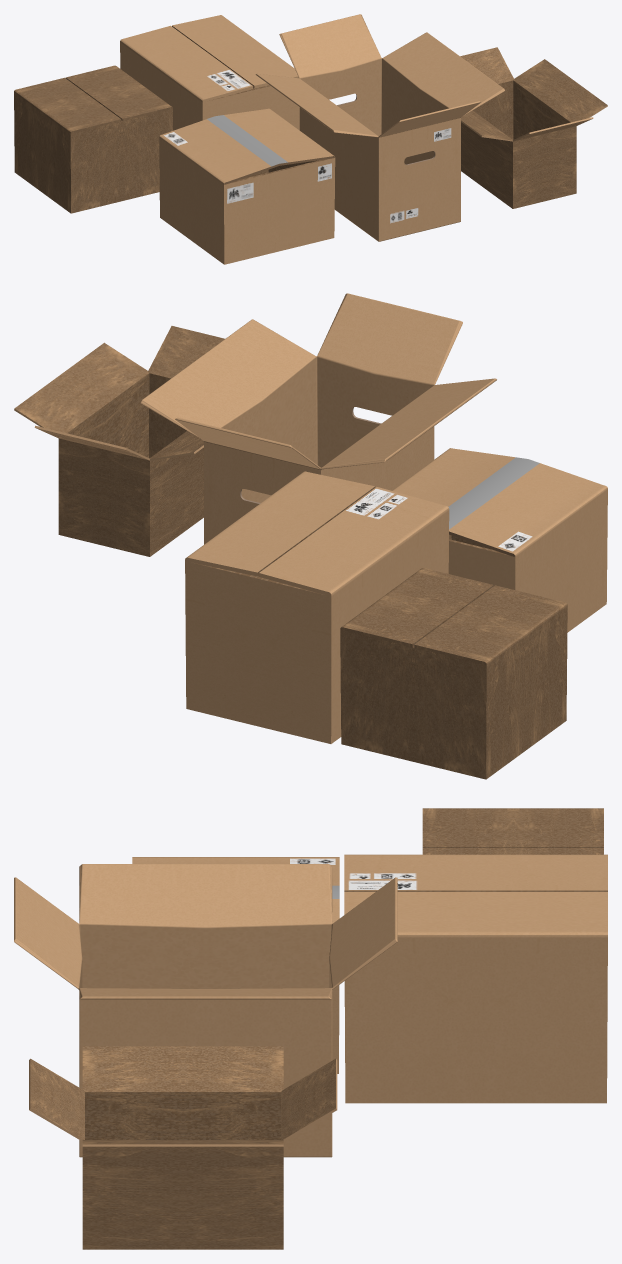
File: boxes.fbx
3 renders of one model, top to bottom at view 1: azimuth 30°, elevation 25°; view 2: azimuth 150°, elevation 25°; view 3: azimuth 270°, elevation 25°, orthographic. The views are drawn at different scales.
Parts seen in each view (by area): view 1: Cube, Cube.004, Cube.003, Cube.001, Cube.002; view 2: Cube.002, Cube, Cube.003, Cube.001, Cube.004; view 3: Cube.002, Cube, Cube.001, Cube.003, Cube.004.
Part boxes in pixels (x1,y1,x2,y2): Cube: (255, 14, 504, 241); Cube.004: (159, 108, 335, 264); Cube.003: (14, 65, 172, 213); Cube.001: (460, 47, 607, 208); Cube.002: (120, 15, 299, 130); Cube.002: (185, 471, 449, 743); Cube: (140, 293, 496, 544); Cube.003: (340, 568, 567, 779); Cube.001: (14, 326, 224, 556); Cube.004: (392, 448, 607, 632); Cube.002: (344, 854, 607, 1103); Cube: (14, 864, 397, 1157); Cube.001: (29, 1046, 337, 1249); Cube.003: (422, 808, 603, 854); Cube.004: (132, 857, 339, 1073).
Bounding box in the file's own units: 199 × 60.85 × 149.
Materials: 1 (1 with a texture image).
